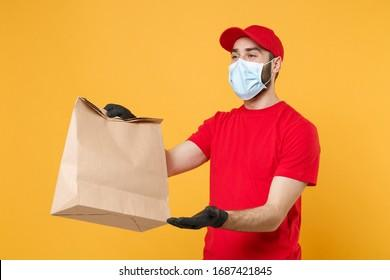gloves: (167, 205, 228, 230), (103, 103, 138, 120)
